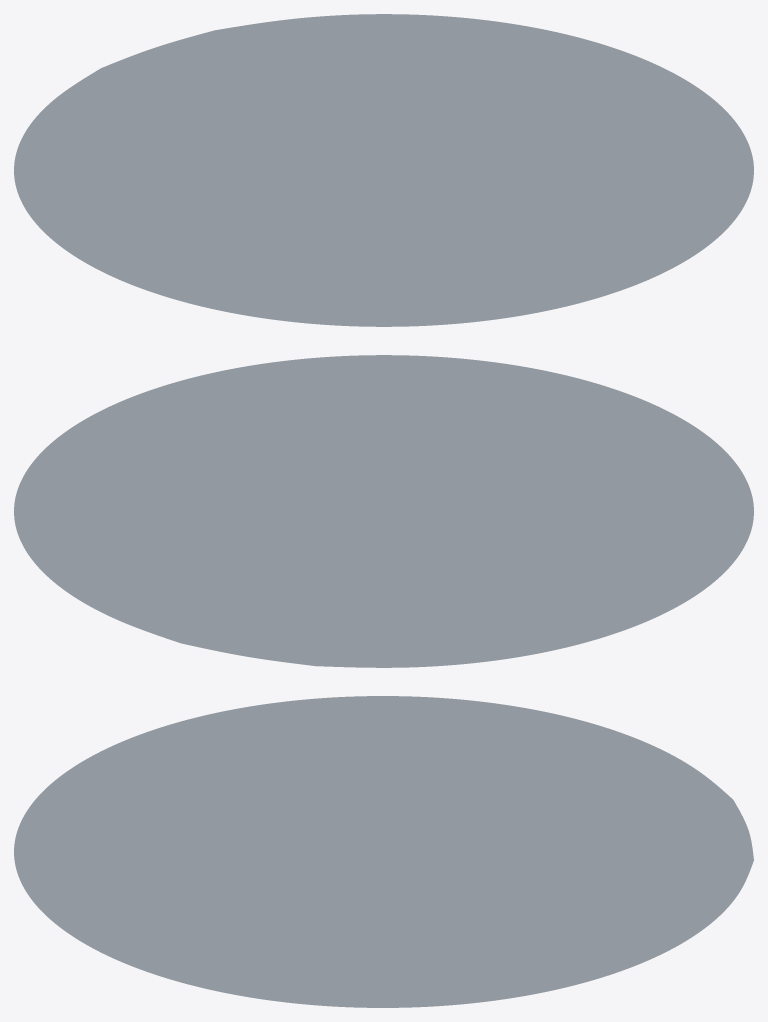
The model's file is shui.fbx.
3 renders of one model, top to bottom at view 1: azimuth 30°, elevation 25°; view 2: azimuth 150°, elevation 25°; view 3: azimuth 270°, elevation 25°, orthographic.
Visible parts, largest first — view 1: pCube7; view 2: pCube7; view 3: pCube7.
Part boxes in pixels (box(x1,y1,x2,y2)): pCube7: box(14, 14, 753, 326); pCube7: box(14, 355, 753, 667); pCube7: box(14, 696, 753, 1007).
Size of the model in its own units: 4257 by 0.000186 by 4267.
